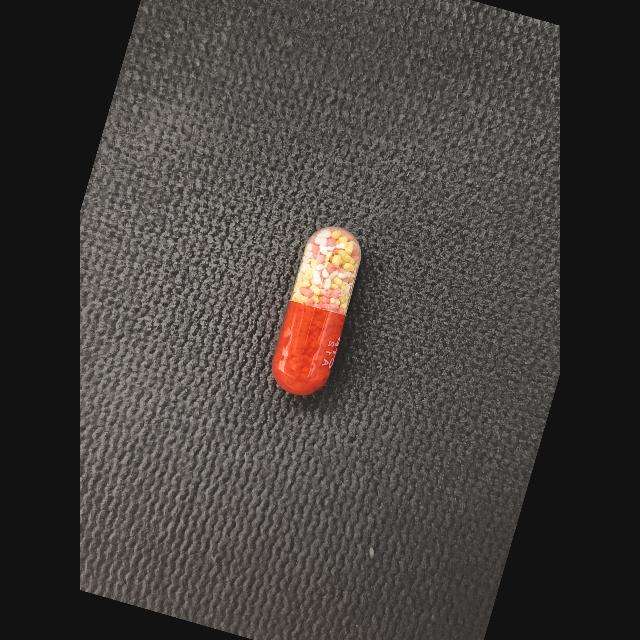Intact Capsule: (272, 227, 361, 395)
